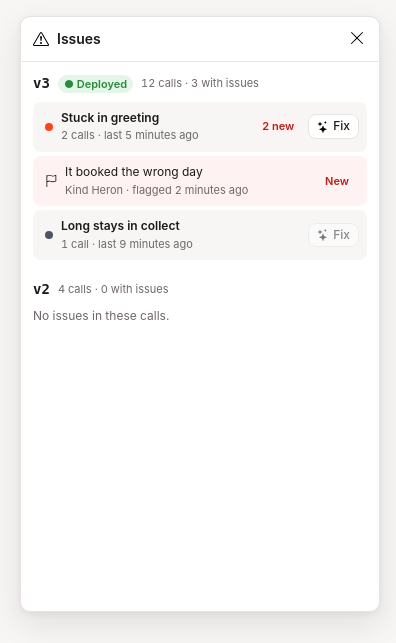
Scenario: IssuesPane › hands a group to the copilot with its causes, once per opening
The image size is (396, 643).
Expected: the text "Stuck in greeting" is shown, [61, 110, 159, 125]
Click the button with aria-label "Fix with copilot" at (334, 127), box [308, 114, 359, 139]
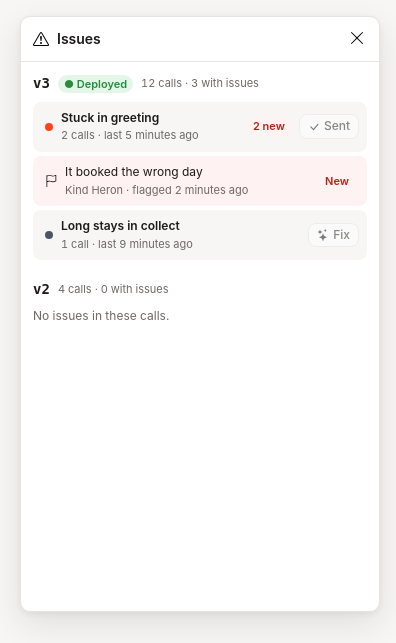
Expected: the button with aria-label "Fix with copilot" is disabled, [308, 223, 359, 248]
Result: the button with aria-label "Sent to copilot" is disabled at [299, 114, 359, 139]
